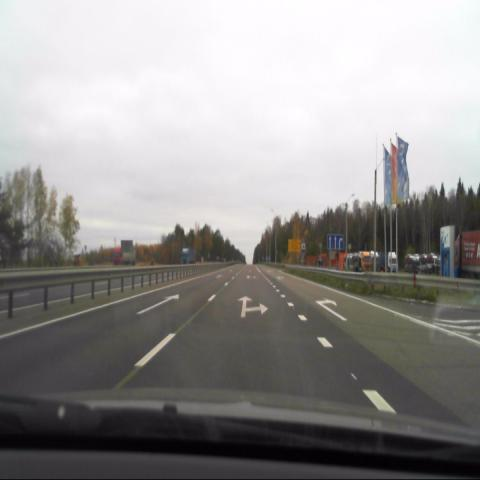5_15_1: (327, 234, 344, 252)
